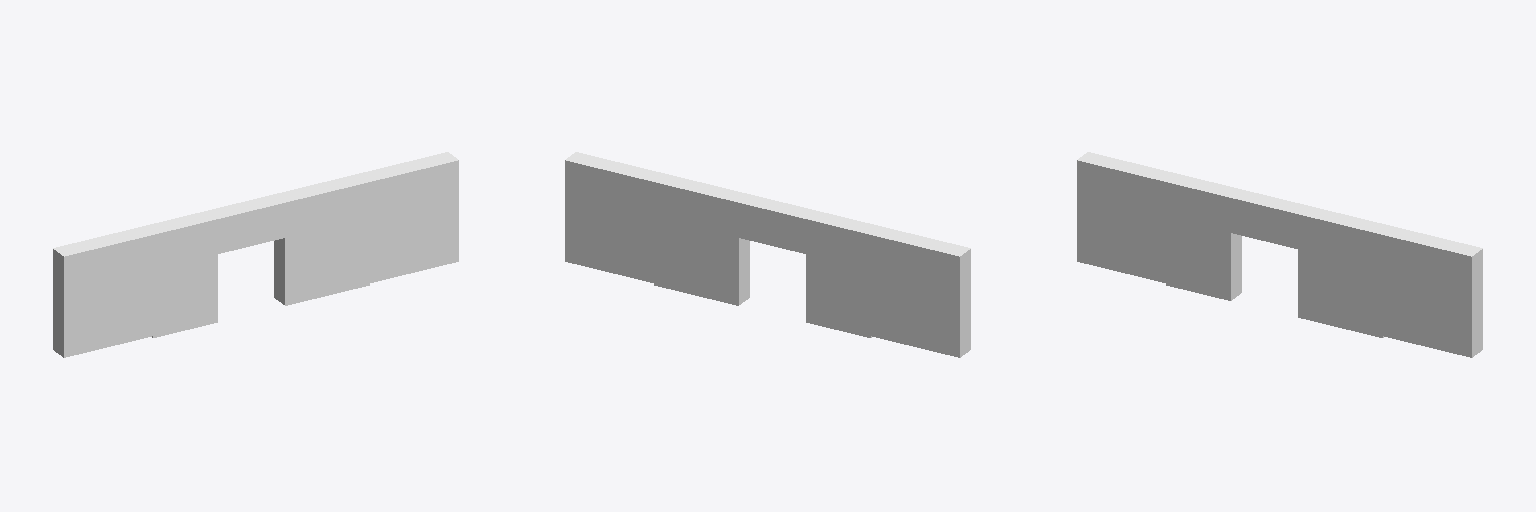
File: 2_room2_wall_forward.obj
3 views of the same model, side by side, from view 1: azimuth 30°, elevation 25°; view 2: azimuth 150°, elevation 25°; view 3: azimuth 330°, elevation 25° (orthographic).
Parts seen in each view (by area): view 1: object 1; view 2: object 1; view 3: object 1.
Boxes of the visible parts, x1=… form: object 1: x1=53, y1=152, x2=458, y2=357; object 1: x1=565, y1=152, x2=970, y2=357; object 1: x1=1077, y1=152, x2=1482, y2=357.
Size of the model in its own units: 20 by 5 by 1.